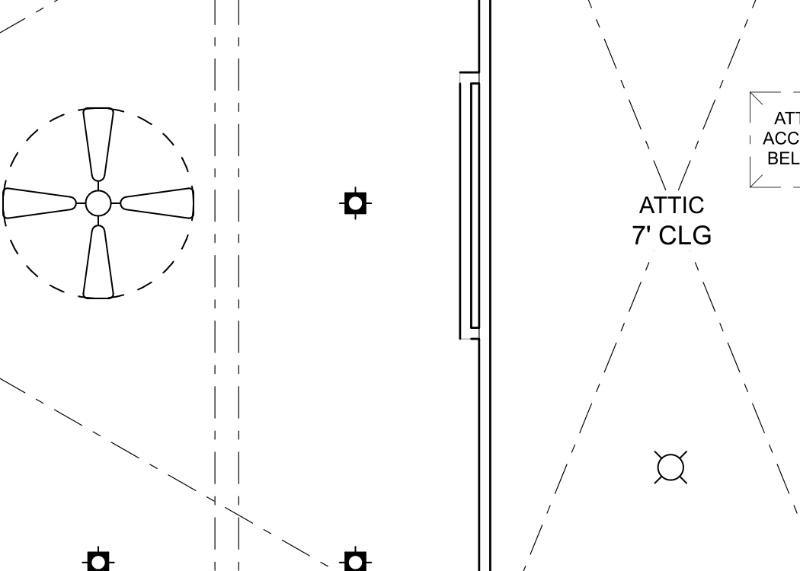Ceiling Light: (654, 450, 688, 486), (0, 121, 18, 157), (0, 254, 18, 290), (0, 185, 18, 221), (654, 0, 688, 18), (711, 0, 745, 16), (0, 0, 16, 23)
ress_can_light: (339, 185, 373, 221), (338, 545, 372, 571), (82, 546, 114, 570), (0, 185, 18, 220), (572, 0, 606, 18), (568, 0, 602, 18), (338, 0, 372, 18), (0, 184, 16, 220), (0, 185, 16, 220), (572, 0, 606, 16), (572, 0, 606, 16), (349, 0, 383, 16), (527, 0, 561, 16), (146, 0, 180, 16), (81, 0, 115, 16), (0, 6, 16, 40), (0, 366, 16, 399), (238, 0, 270, 16), (264, 0, 296, 16), (264, 0, 296, 16), (115, 0, 147, 16), (43, 0, 75, 16), (243, 0, 275, 16), (43, 0, 75, 16), (91, 0, 123, 16), (349, 0, 381, 16), (91, 0, 123, 16), (528, 0, 560, 16), (490, 0, 522, 16), (686, 0, 718, 16), (687, 0, 719, 16), (568, 0, 600, 16), (146, 0, 178, 16), (0, 545, 16, 571), (0, 546, 16, 570), (0, 546, 16, 570), (0, 0, 18, 19), (0, 0, 16, 16), (0, 0, 16, 16), (0, 0, 16, 16), (0, 0, 16, 16), (0, 0, 16, 16), (0, 0, 16, 16), (0, 0, 16, 16), (0, 0, 16, 16), (0, 0, 16, 16), (0, 0, 16, 16), (0, 0, 16, 16), (0, 0, 16, 16), (0, 0, 16, 16), (0, 0, 16, 16), (0, 0, 16, 16), (0, 0, 16, 16), (0, 0, 16, 16), (0, 0, 16, 16), (0, 0, 16, 16), (0, 0, 16, 16), (0, 0, 16, 16), (0, 0, 16, 16), (0, 0, 16, 16), (0, 0, 16, 16), (0, 0, 16, 16), (0, 0, 16, 16), (0, 0, 16, 16), (0, 0, 16, 16), (0, 0, 16, 16), (0, 0, 16, 16), (0, 0, 16, 16), (0, 0, 16, 16), (0, 0, 16, 16), (0, 0, 16, 16), (0, 0, 16, 16), (1, 0, 16, 16), (1, 0, 16, 16), (1, 0, 16, 16), (1, 0, 16, 16), (1, 0, 16, 16), (1, 0, 16, 16), (1, 0, 16, 16), (1, 0, 16, 16), (786, 0, 800, 16), (786, 0, 800, 16), (0, 0, 14, 16), (0, 0, 14, 16), (0, 0, 14, 16), (0, 0, 14, 16), (0, 0, 14, 14), (0, 0, 14, 14), (0, 0, 14, 14), (0, 0, 14, 14)
